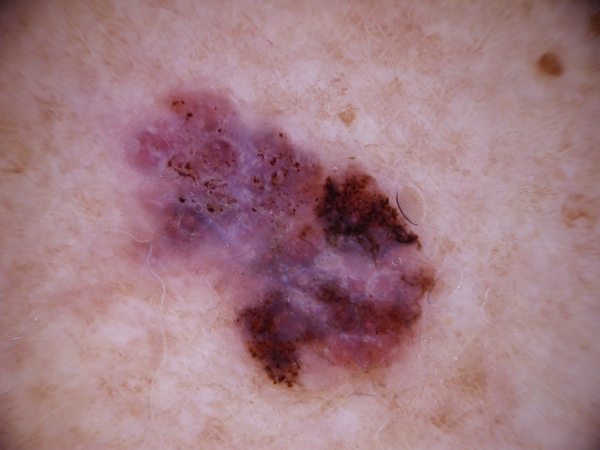Detected Lesion: (109, 80, 448, 391)
